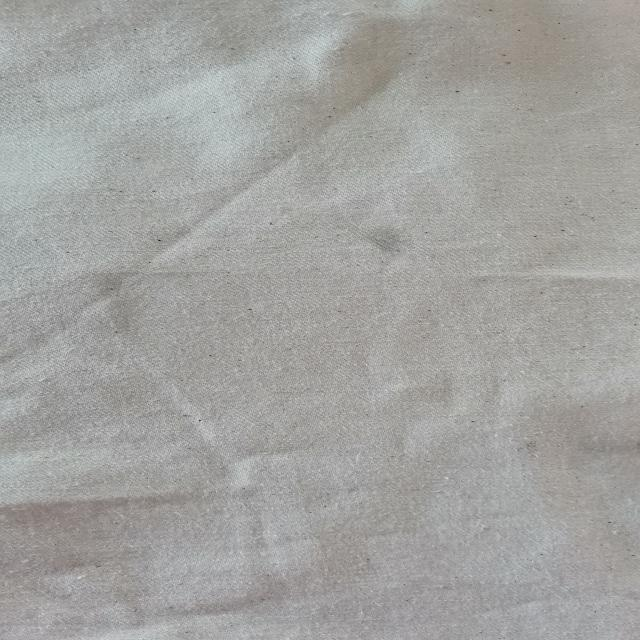taaaches: (339, 218, 434, 264)
